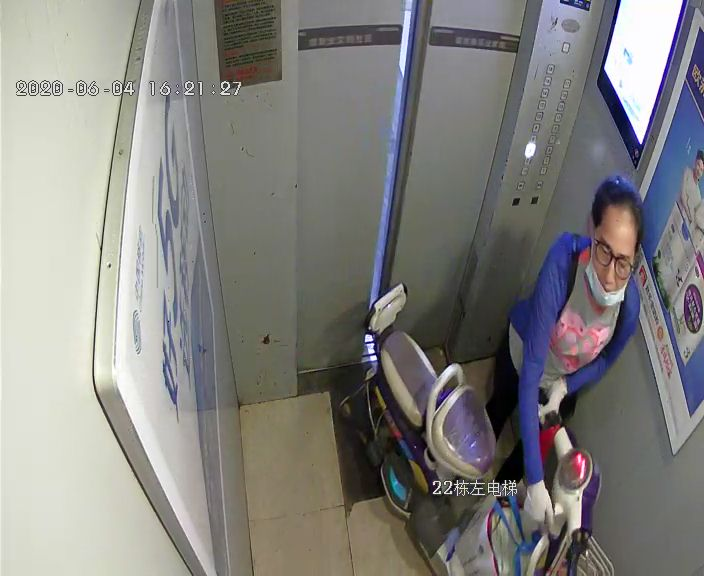Electric-bicycle: (340, 285, 614, 574)
